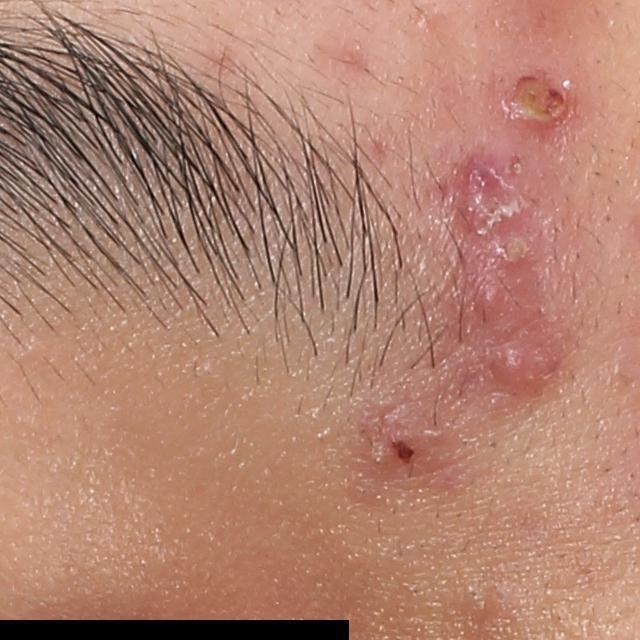papule: (360, 403, 434, 470), (486, 332, 539, 388), (469, 274, 503, 315)
pustule: (495, 63, 579, 137), (487, 228, 535, 270)
